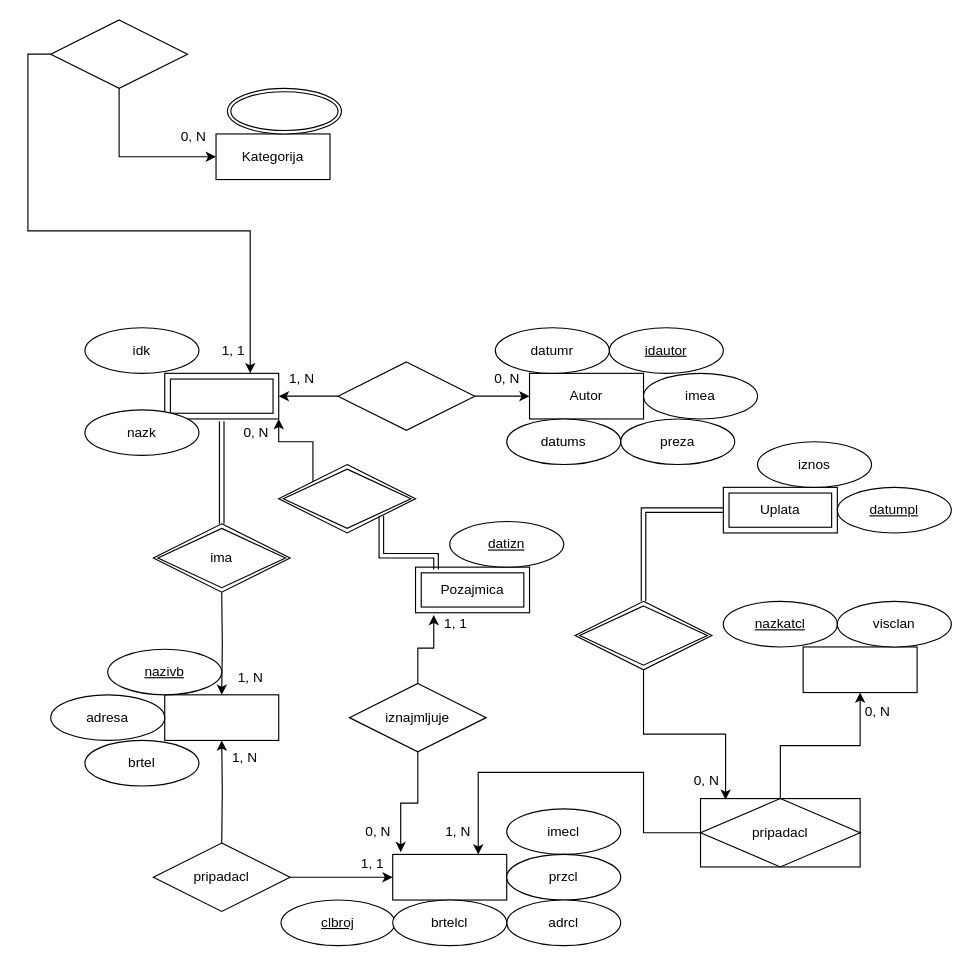
This 971x966 diagram has some shape labels left out. Each missing label, with the box of its shape:
Biblioteka: (164, 694, 279, 740)
Clan: (392, 853, 507, 900)
iznajmljuje se: (278, 463, 416, 533)
KategorijaCl: (802, 646, 917, 693)
Knjiga: (164, 372, 279, 419)
napisao: (337, 361, 475, 430)
nazkat: (226, 87, 341, 134)
placa: (574, 600, 712, 670)
pripada: (50, 19, 188, 88)
